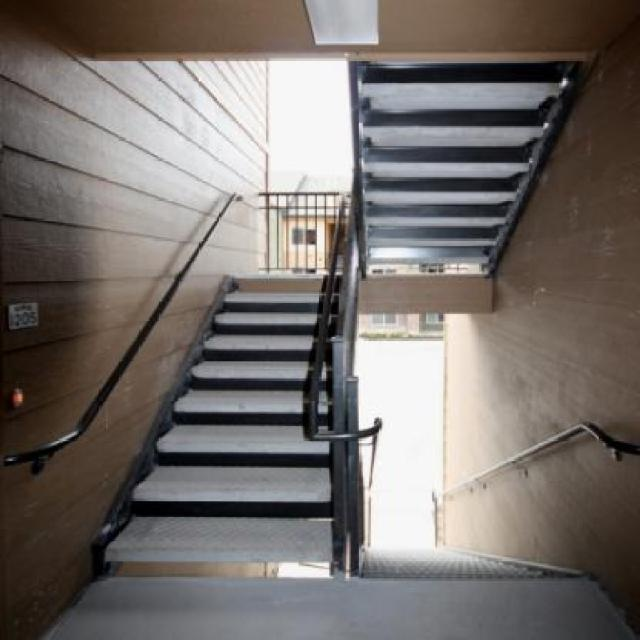stair: (62, 159, 404, 601)
